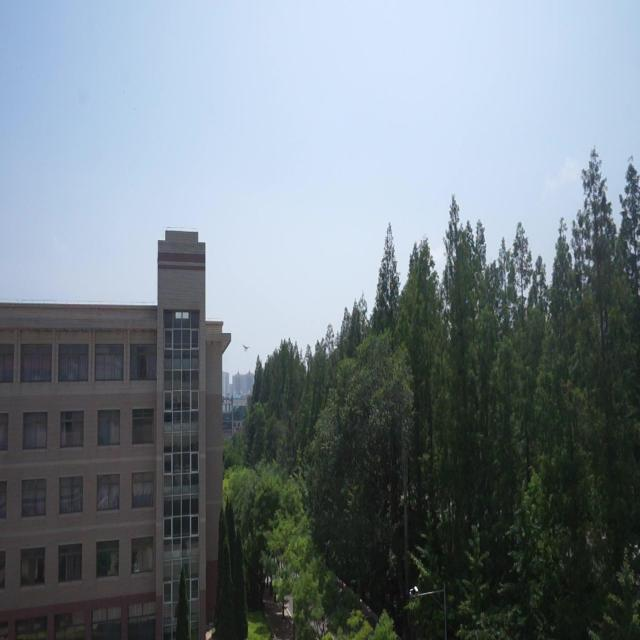drone: (242, 338, 250, 356)
